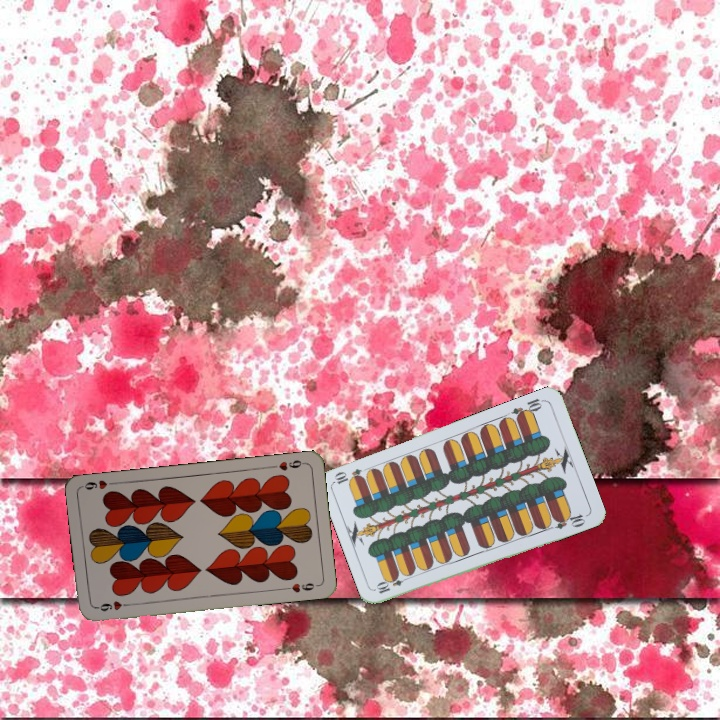E10: (508, 394, 547, 422), (373, 571, 412, 596)
H9: (267, 456, 308, 473), (92, 597, 133, 614)
